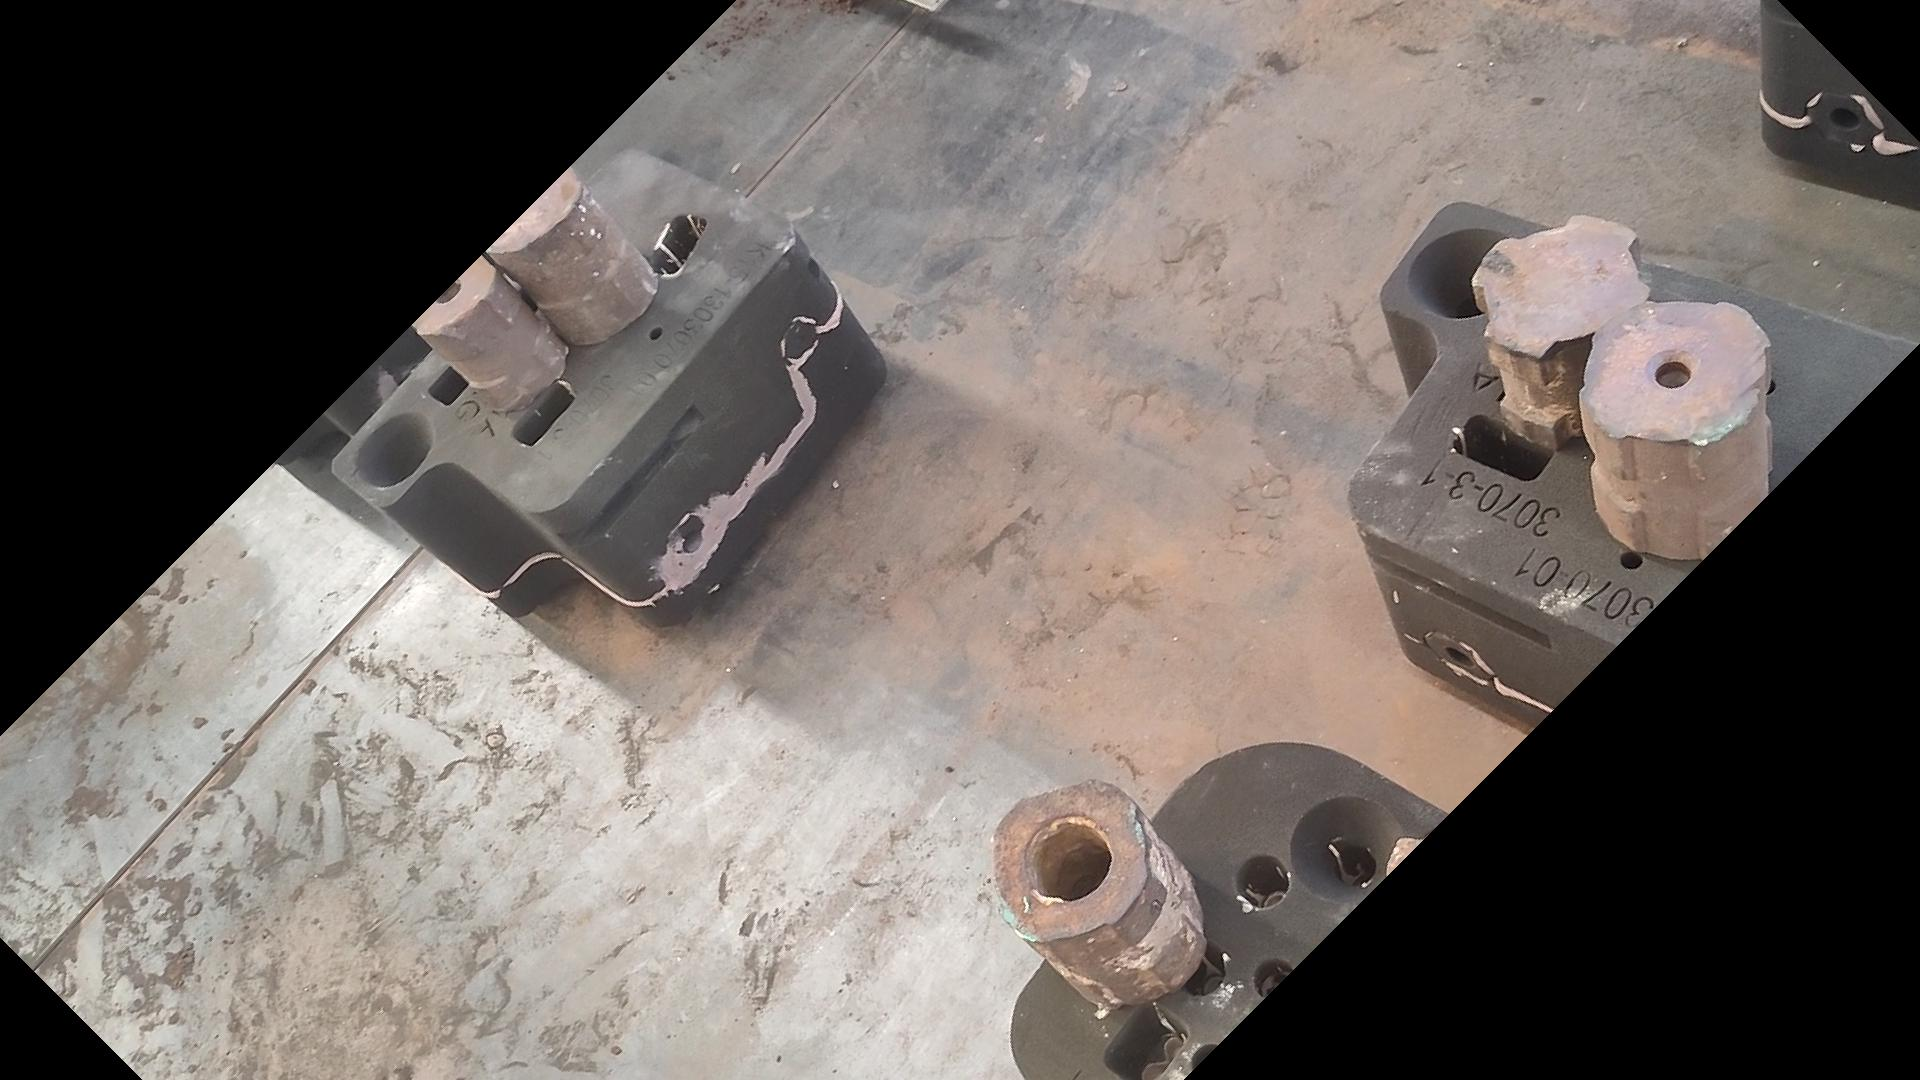pouring hole: (1288, 794, 1406, 905), (1408, 228, 1518, 320), (352, 407, 436, 489)
